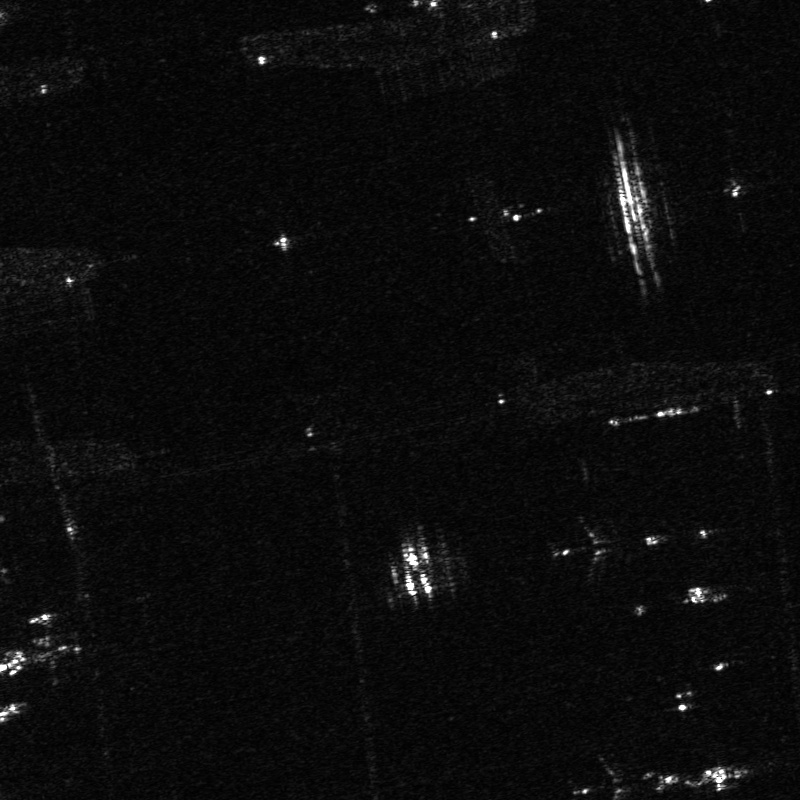Boeing737: (542, 504, 625, 589), (555, 743, 646, 799)
